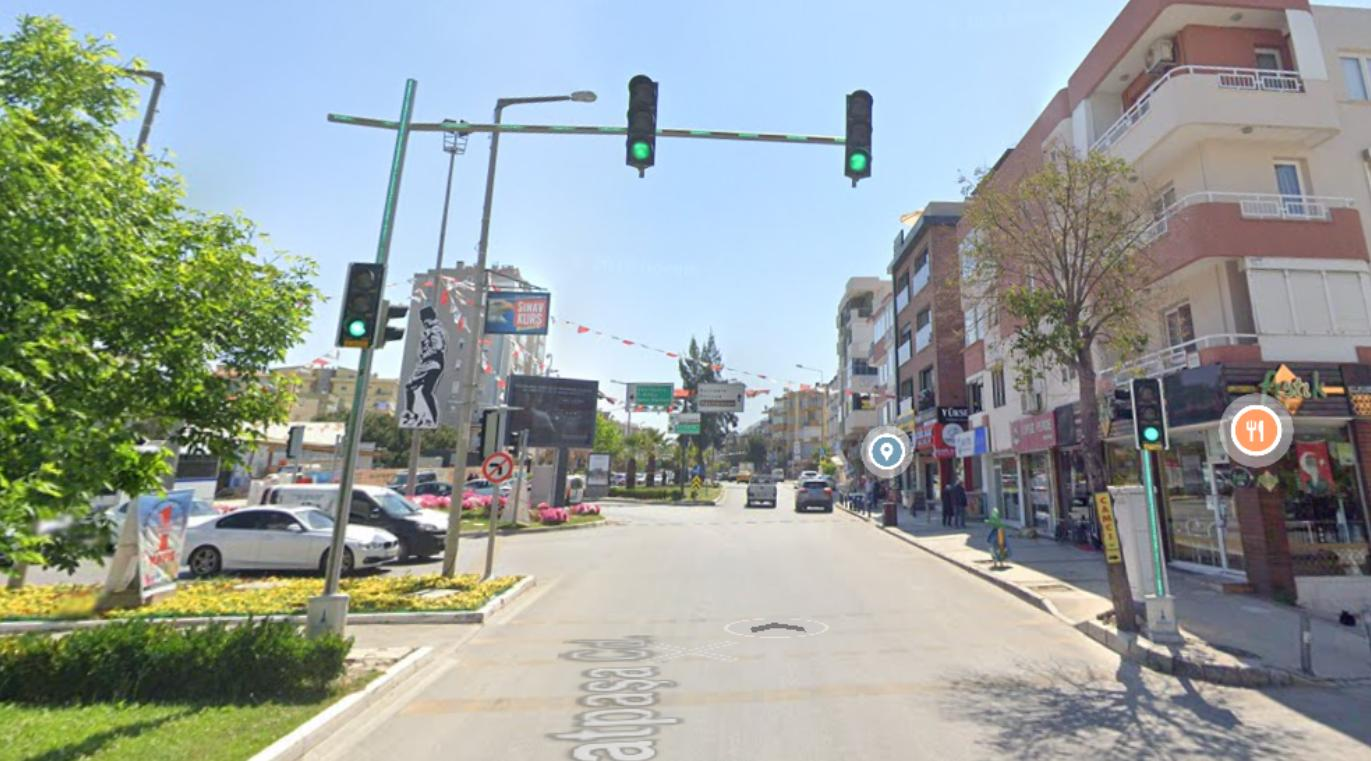greenlight: (626, 72, 663, 170), (1127, 373, 1170, 448), (842, 84, 876, 178), (340, 260, 376, 343)
